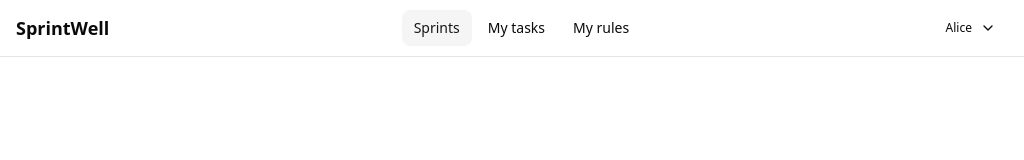
Test case: Header › shows the member name and reveals Logout from the menu
expect the menu item "logout" is not shown: met
What coordinates should you click on to do the following:
click the button "Alice"
I would click on:
 (971, 28)
Its box is [934, 12, 1008, 44].
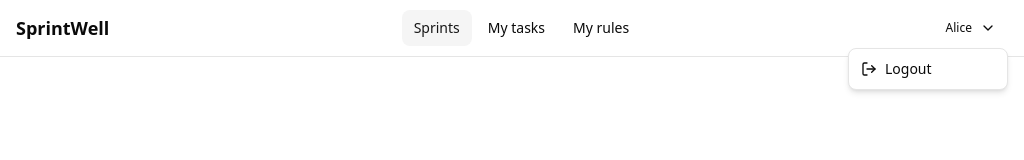
expect the menu item "Logout" is shown: met, box [853, 53, 1003, 85]
